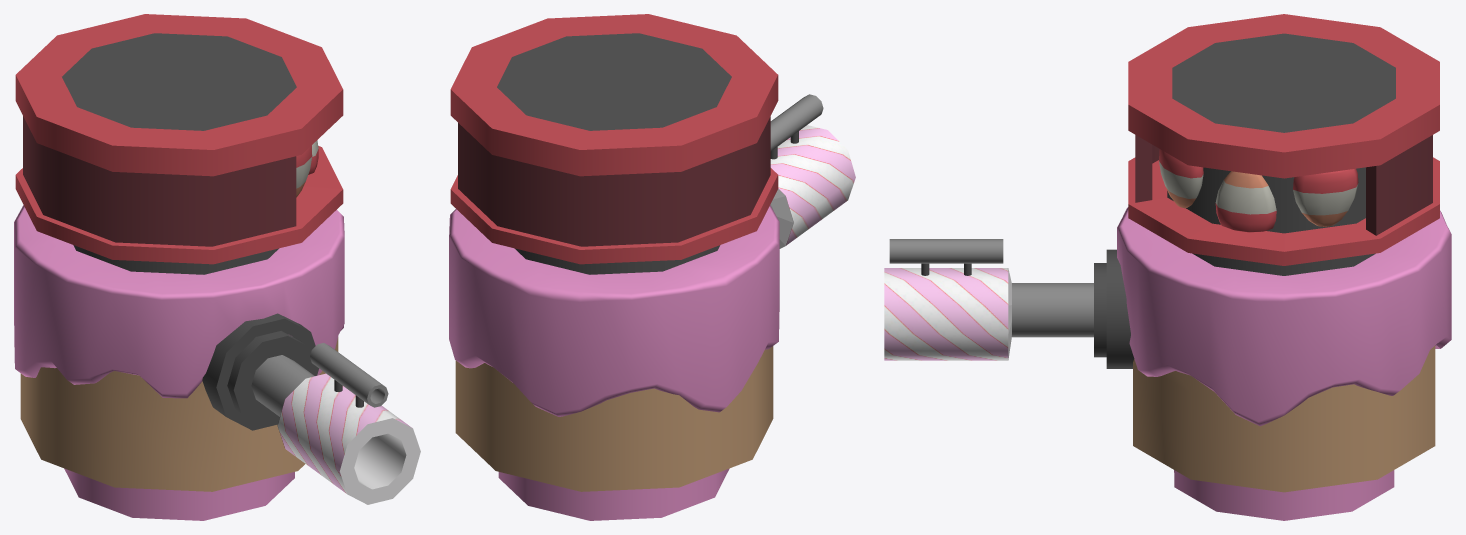
Rendered from SM_Turret_Pink.fbx.
3 renders of one model, left to right at view 1: azimuth 30°, elevation 25°; view 2: azimuth 150°, elevation 25°; view 3: azimuth 270°, elevation 25°, orthographic.
Visible parts, largest first — view 1: SM_Modifier_Fire, SM_BaseTurret_Pink, SM_Sniper; view 2: SM_BaseTurret_Pink, SM_Modifier_Fire, SM_Sniper; view 3: SM_BaseTurret_Pink, SM_Modifier_Fire, SM_Sniper.
Boxes of the visible parts, <box> form: SM_Modifier_Fire: <box>15,14,343,274</box>; SM_BaseTurret_Pink: <box>14,205,344,520</box>; SM_Sniper: <box>227,331,420,504</box>; SM_BaseTurret_Pink: <box>449,205,779,520</box>; SM_Modifier_Fire: <box>450,14,778,274</box>; SM_Sniper: <box>770,94,855,248</box>; SM_BaseTurret_Pink: <box>1106,207,1451,520</box>; SM_Modifier_Fire: <box>1128,14,1439,275</box>; SM_Sniper: <box>884,239,1106,360</box>.
Size of the model in its own units: 2 by 2.59 by 3.43.
11 materials, 1 textured.
